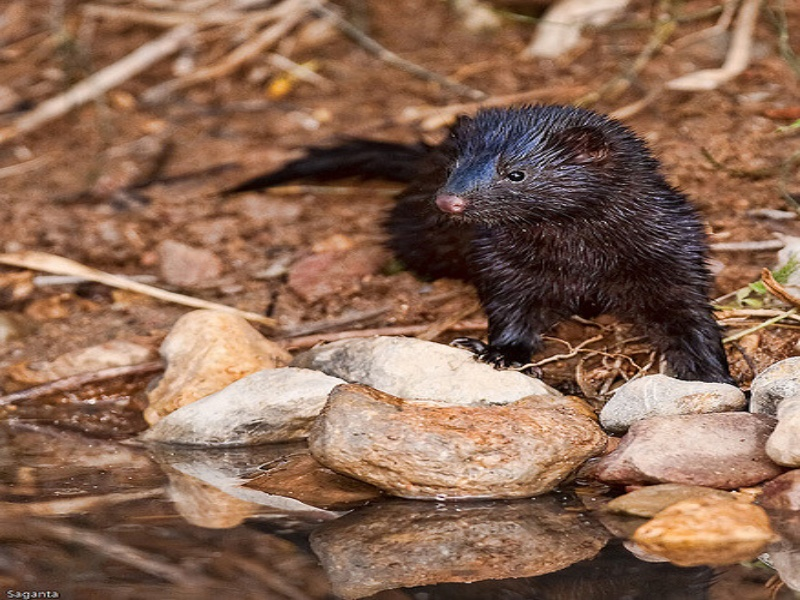minkish: (219, 97, 747, 406)
